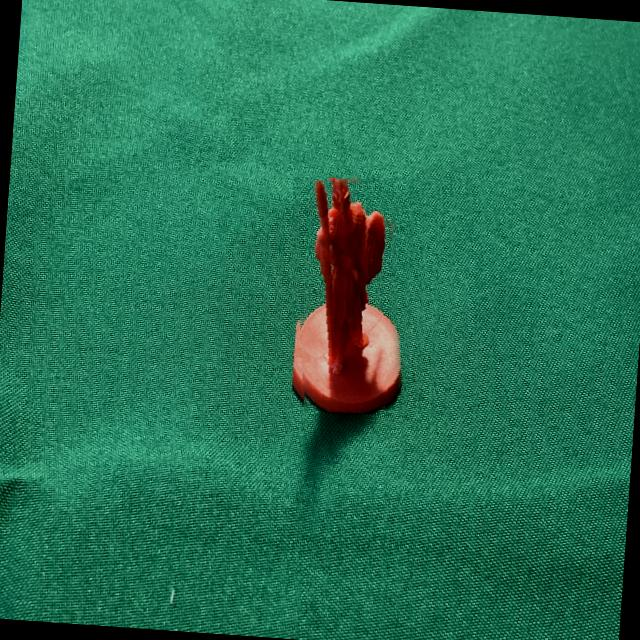amon_follower: (299, 178, 402, 413)
